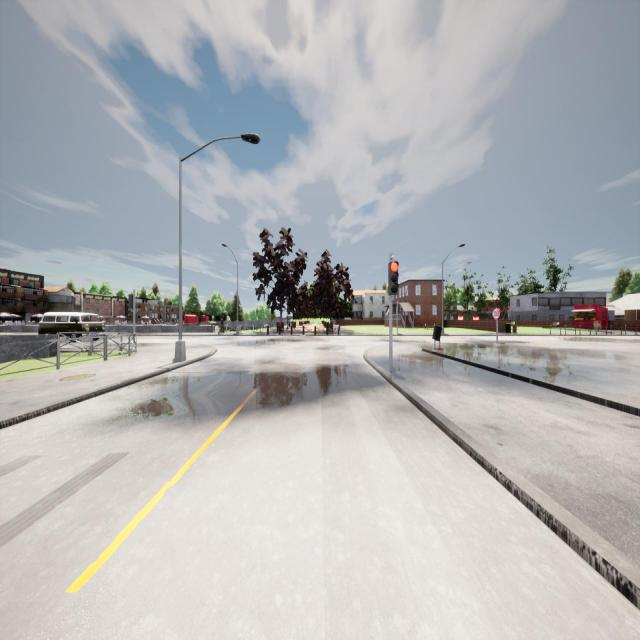Pedestrian: (217, 314, 226, 334)
Traffic_Signs: (492, 308, 501, 319)
Vehicle: (38, 312, 105, 342)
traffic_light: (388, 261, 399, 295), (128, 294, 134, 309), (398, 304, 401, 313)
